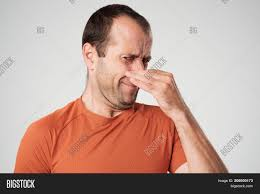white_male: (97, 17, 161, 105)
